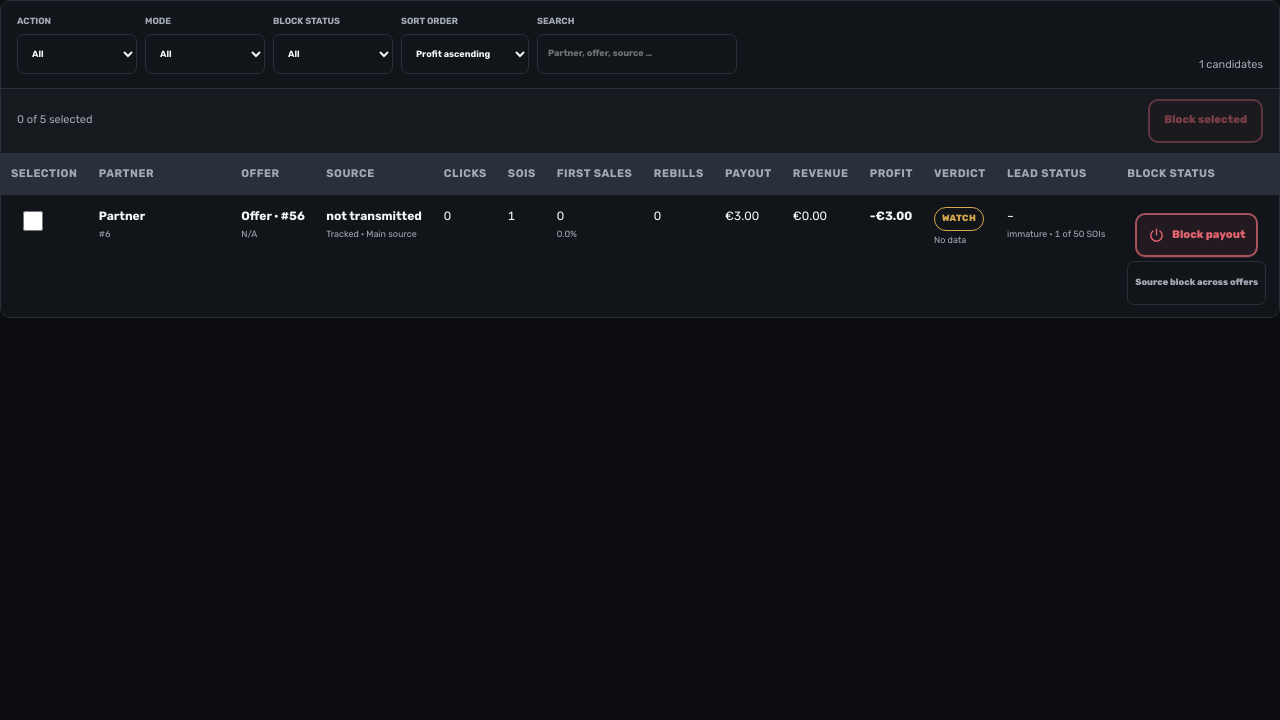
Test: translates a missing source in the table and both previews without changing null in the underlying identity
This screenshot has width=1280, height=720.
Expected: the text "not transmitted" is shown, [326,207,424,225]
Step 1. Click the button with class "sourceBlockIconButton" → (1197, 235), box [1135,213,1258,257]
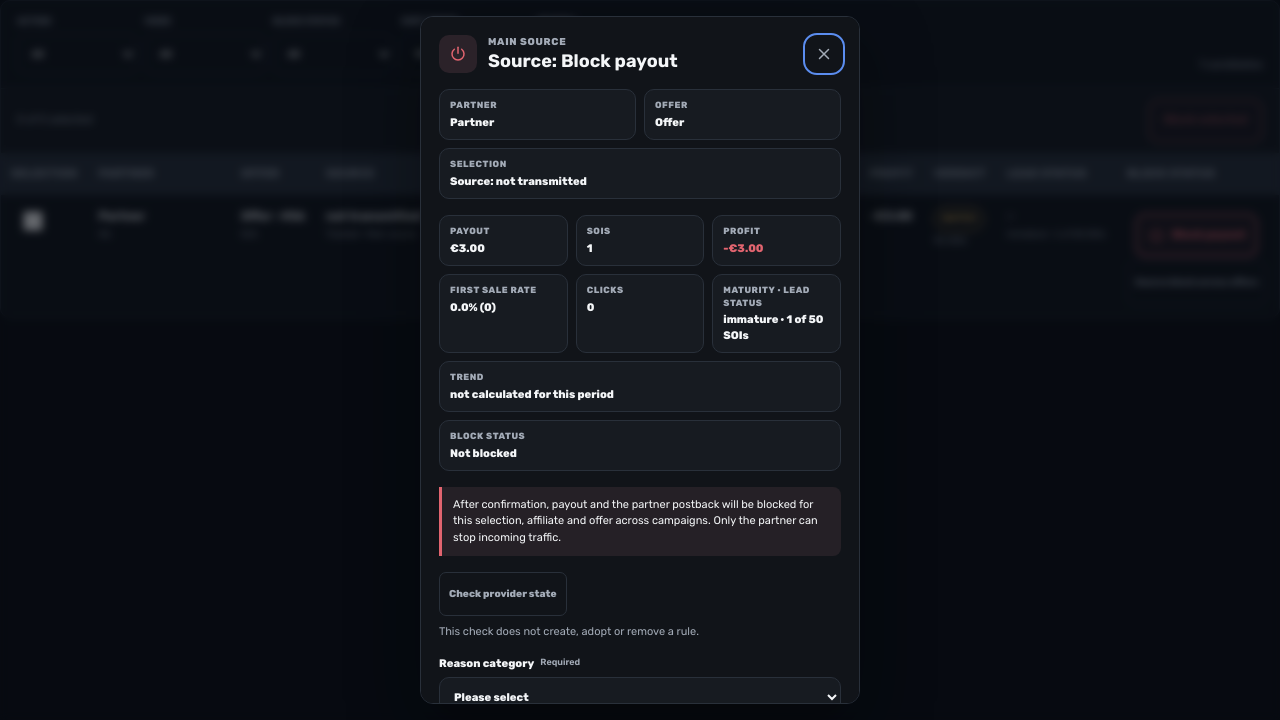
Now the element showing "Source: not transmitted" is shown, box [450,175,587,188]
Step 2. Click the button with class "sourceBlockClose" → (824, 54), box [807,37,841,71]
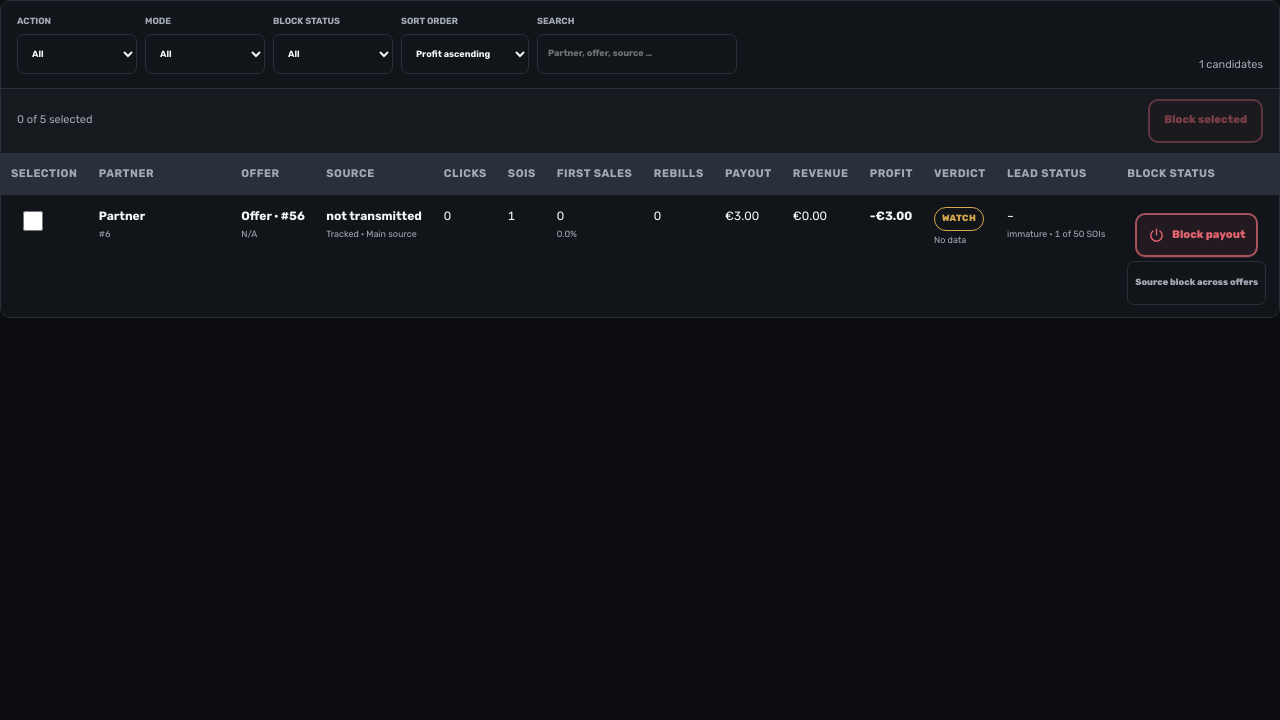
Step 3. Click the checkbox named "Select Partner · Offer · not provided" → (33, 221), box [23,211,43,231]
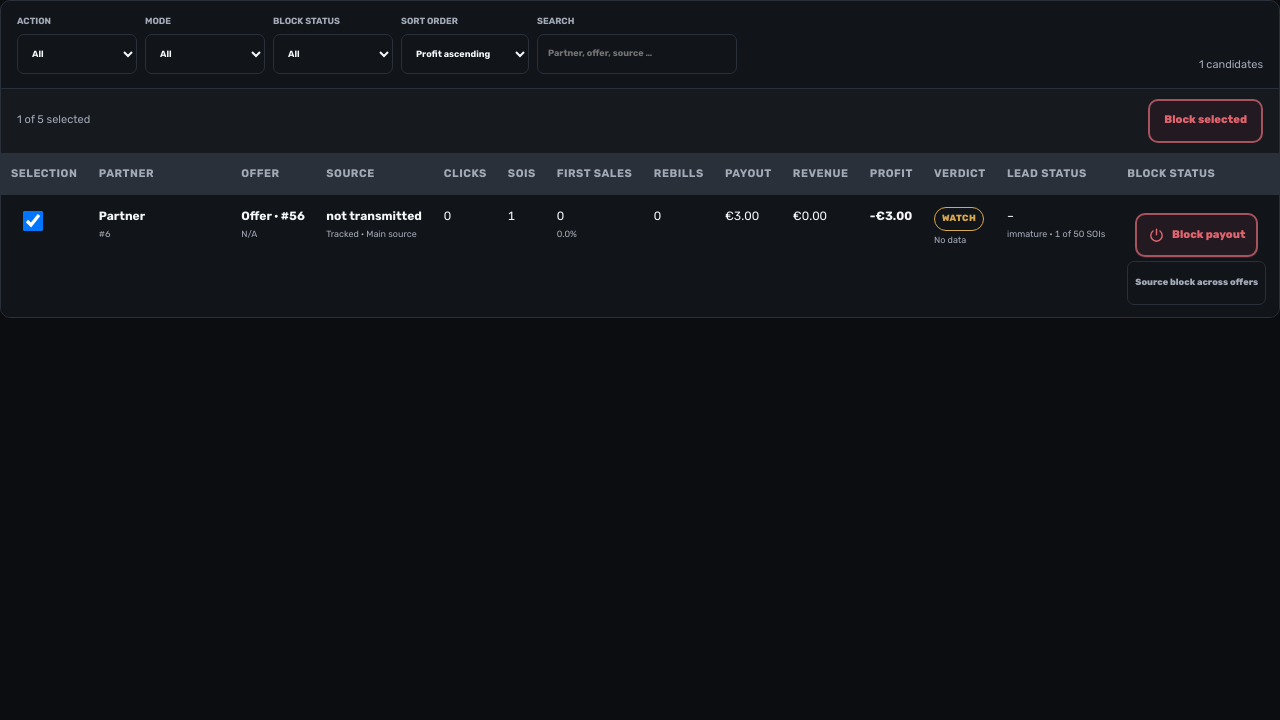
Step 4. Click the button with class "sourcesBulkButton" → (1206, 120), box [1148,98,1263,142]
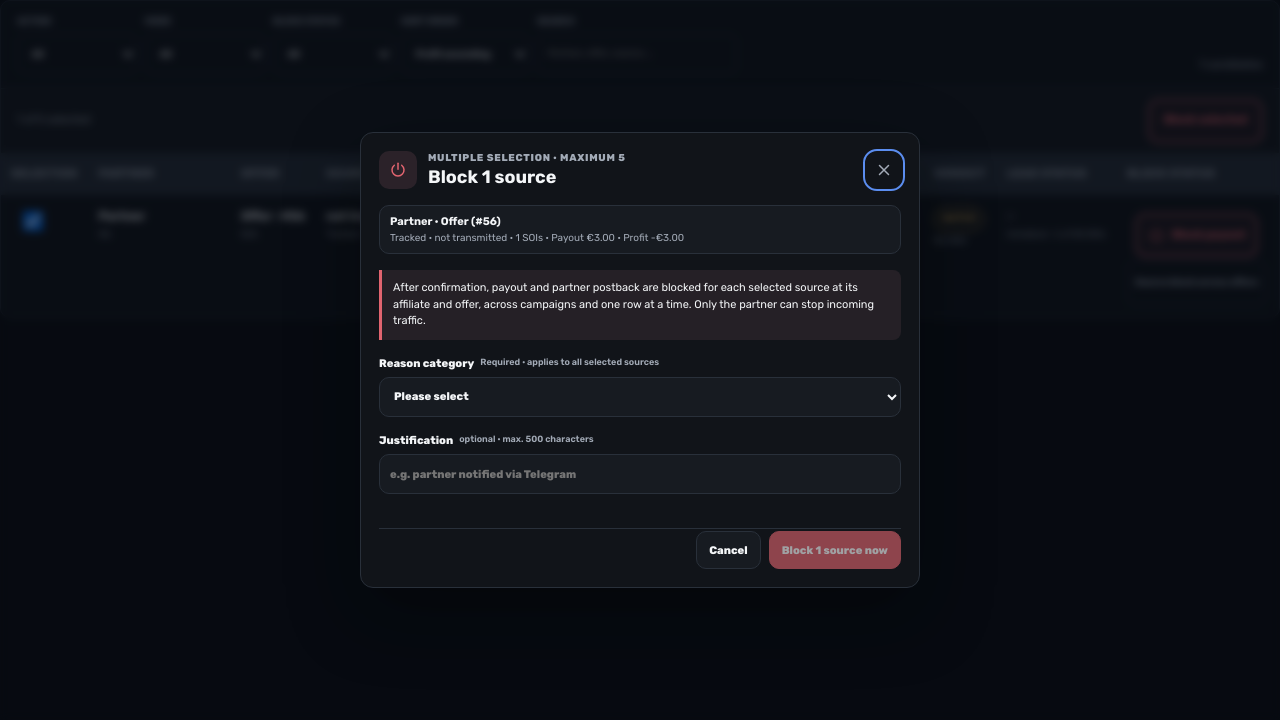
Now the list with class "sourceBulkRows" shows "Tracked · not transmitted", box [379,205,901,254]
